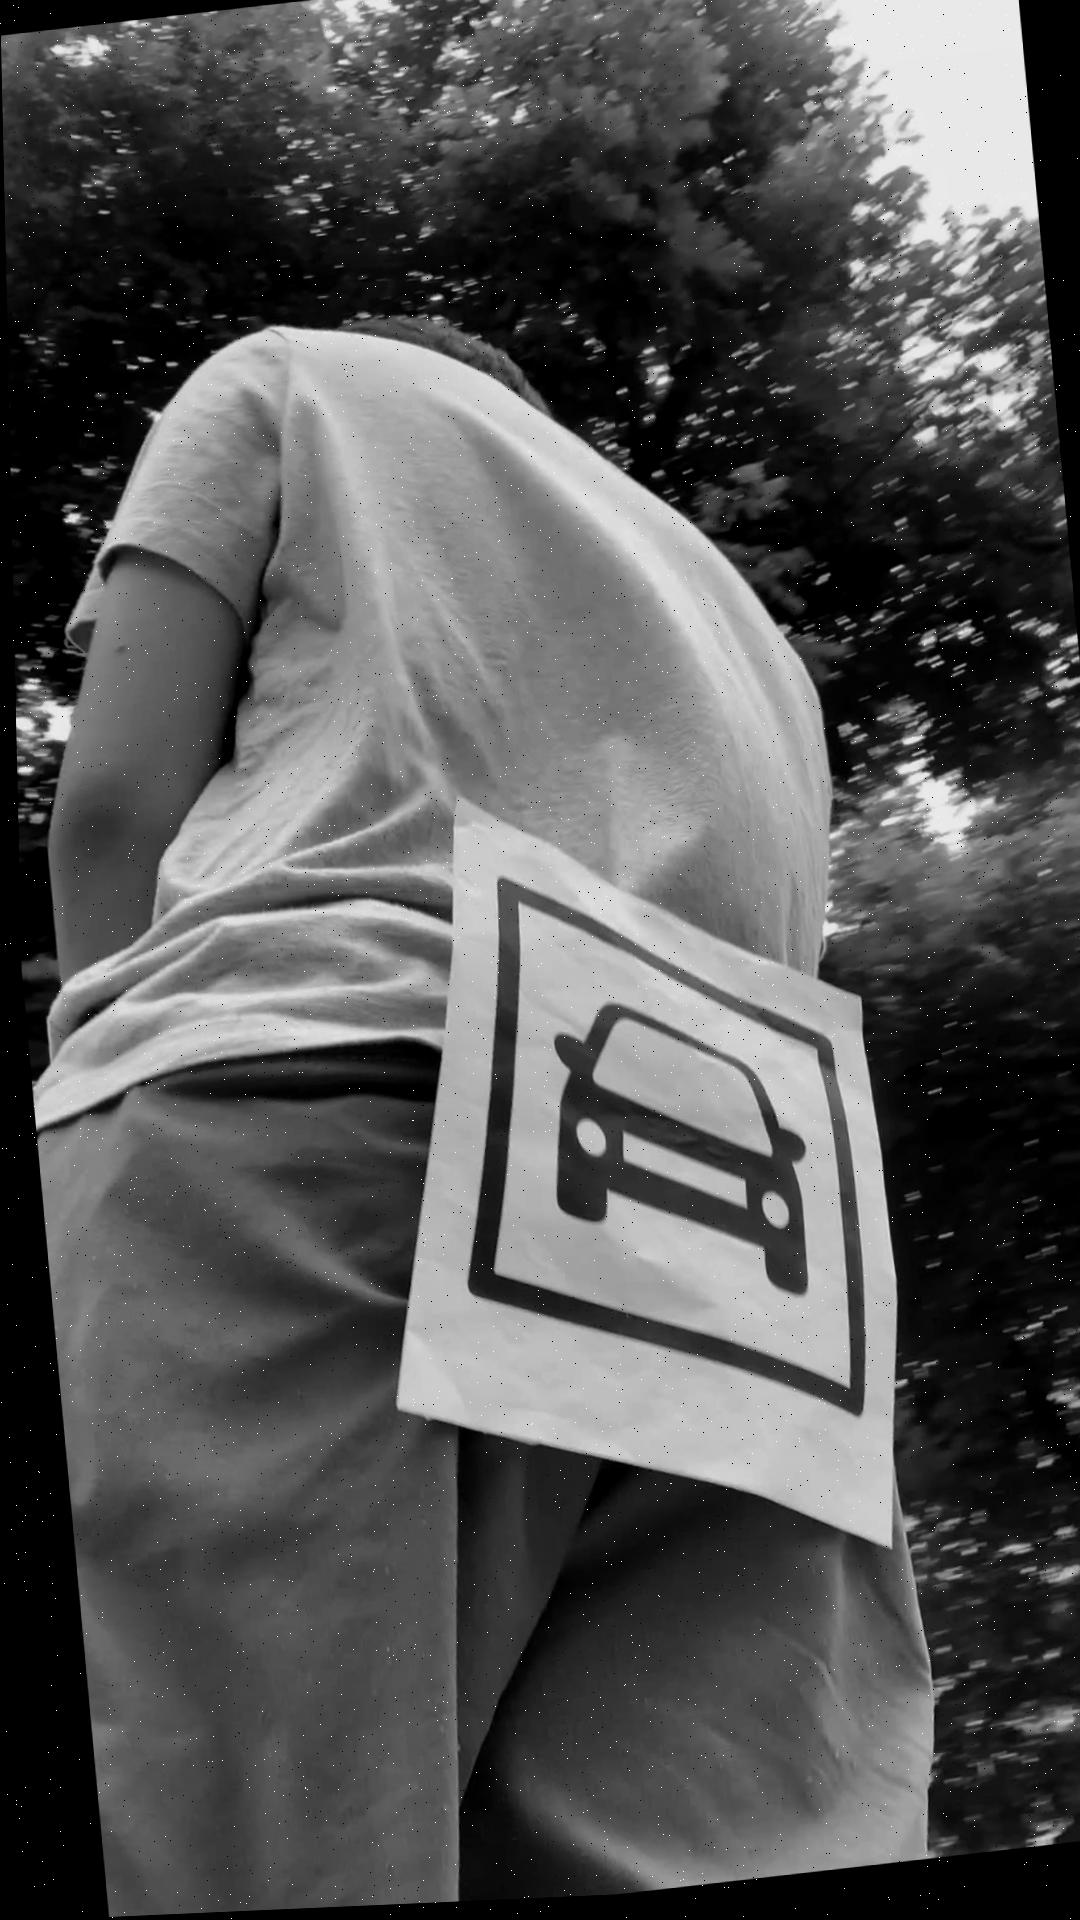car_img: (426, 844, 873, 1466)
